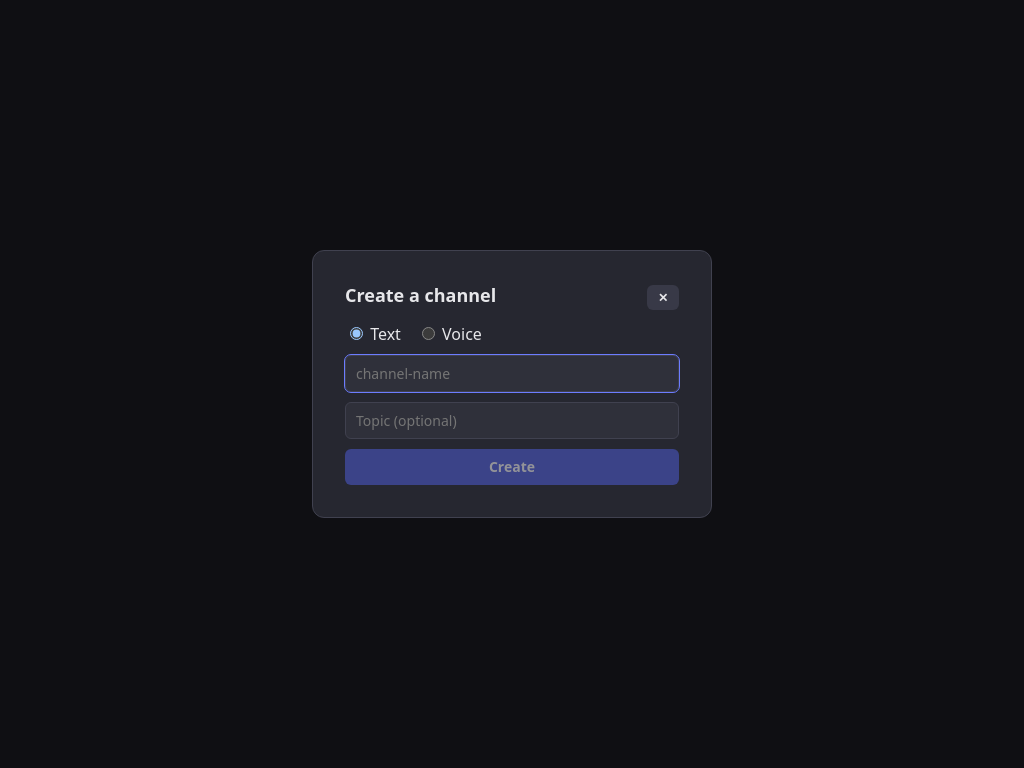
Test case: making a channel on a server with voice › says so when the server turns out to have no voice
This screenshot has width=1024, height=768.
Click the radio button labelled "Voice": (428, 334) [422, 327, 435, 340]
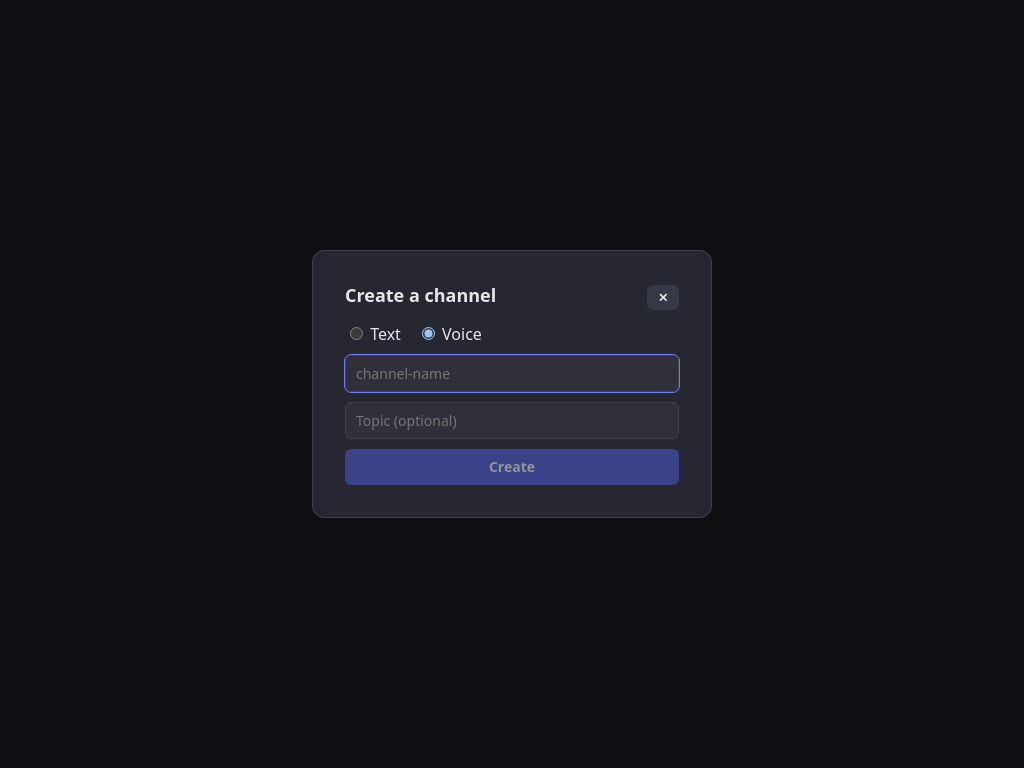
In the field with placeholder "channel-name": (512, 374) [345, 355, 679, 392], type "Lounge"
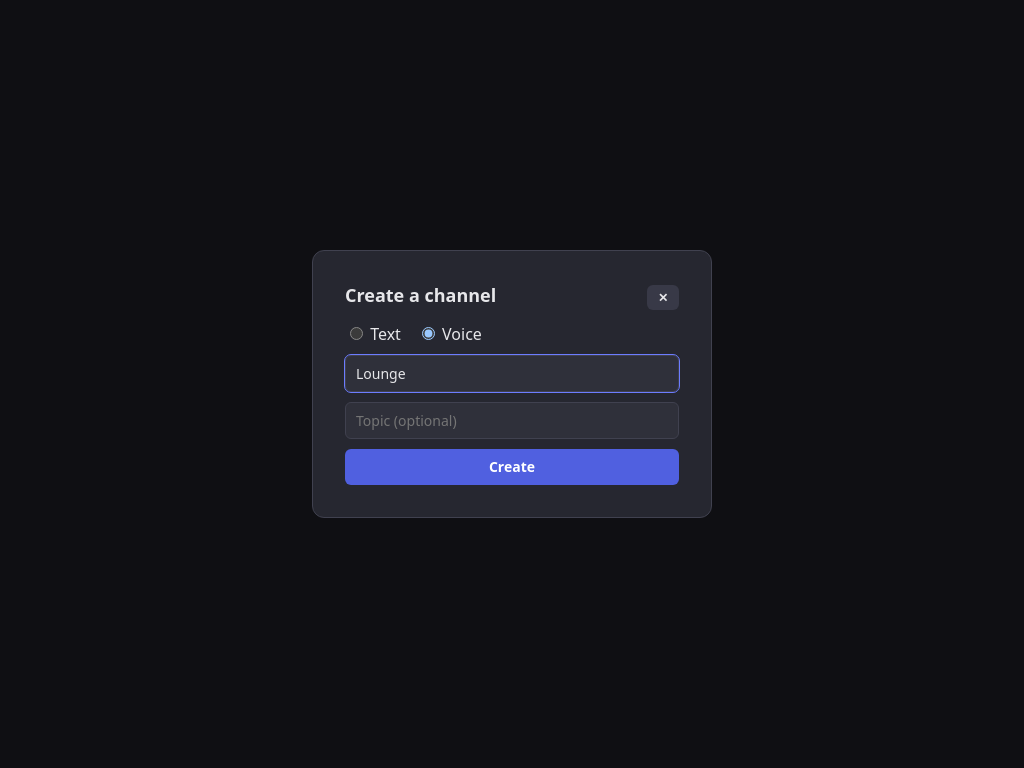
Click the button "Create": (512, 467) [345, 449, 679, 485]
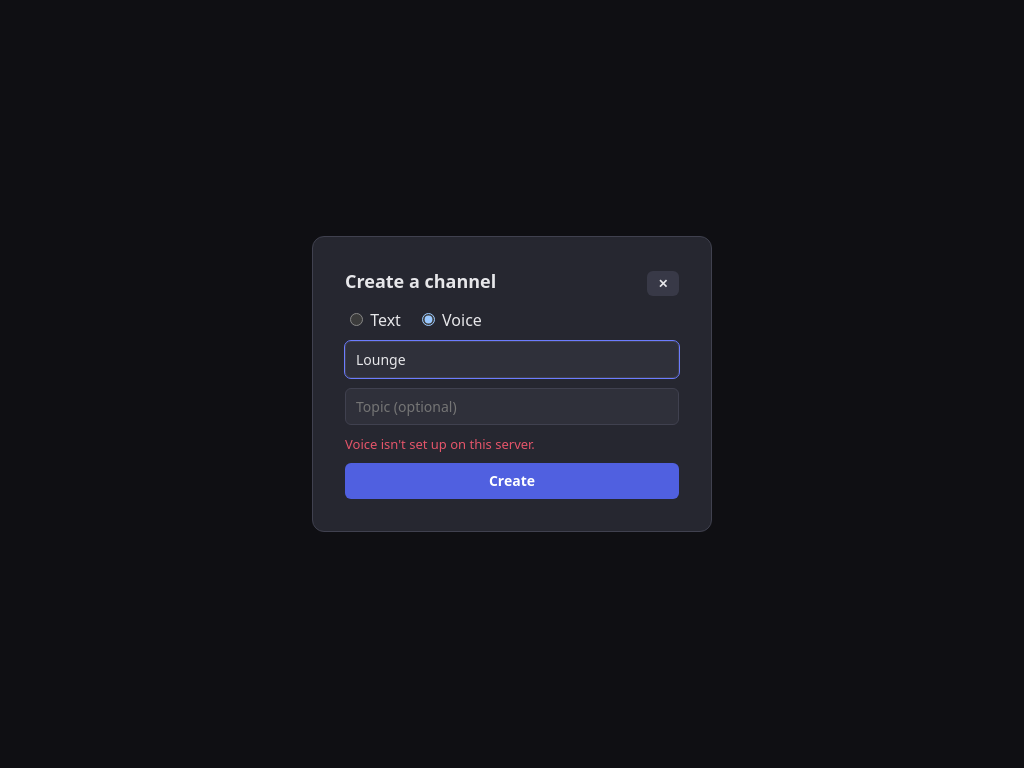
Check: the text "Voice isn't set up on this server." is shown, box [345, 435, 535, 453]
